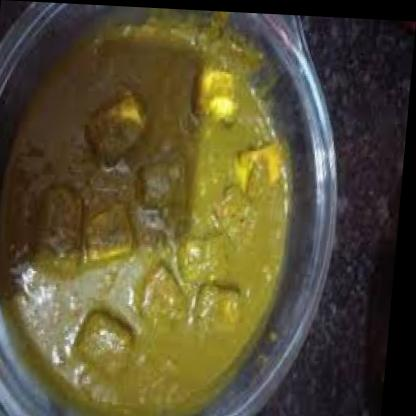palak_paneer: (0, 1, 306, 416)
